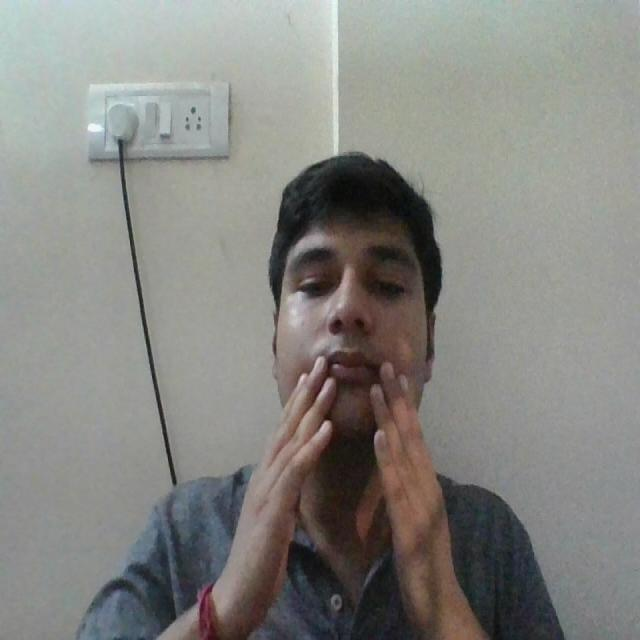Thanks: (212, 376, 504, 640)
